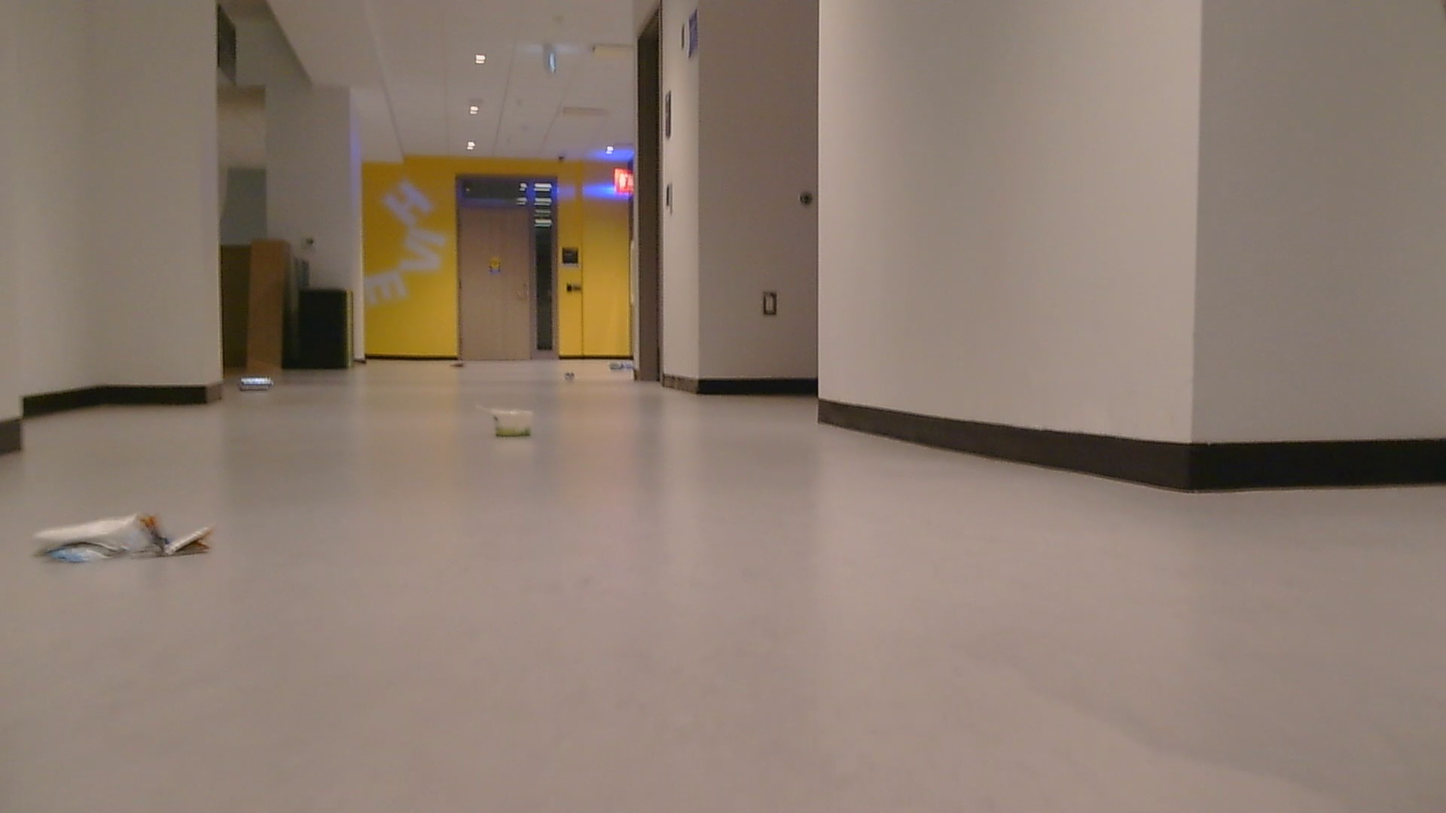carton: (15, 503, 244, 576), (482, 397, 545, 444), (233, 370, 273, 402), (441, 351, 472, 370), (616, 361, 648, 375), (557, 367, 576, 385)
